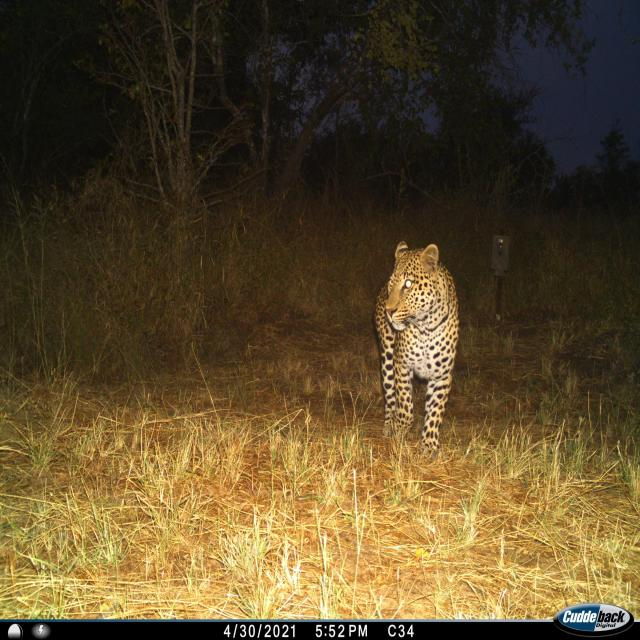Leopard: (370, 225, 465, 465)
